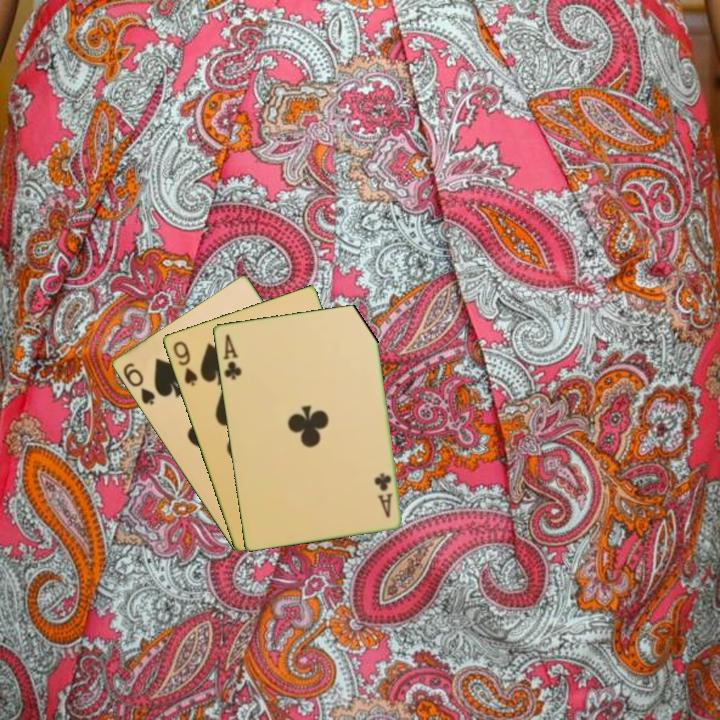6s: (119, 359, 158, 408)
9s: (169, 337, 200, 389)
Ac: (219, 330, 244, 382), (371, 469, 395, 521)
